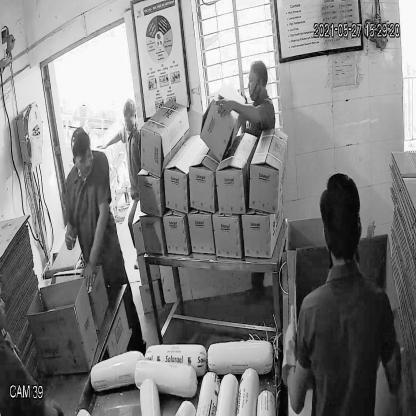no_goggles: (70, 148, 97, 170)
